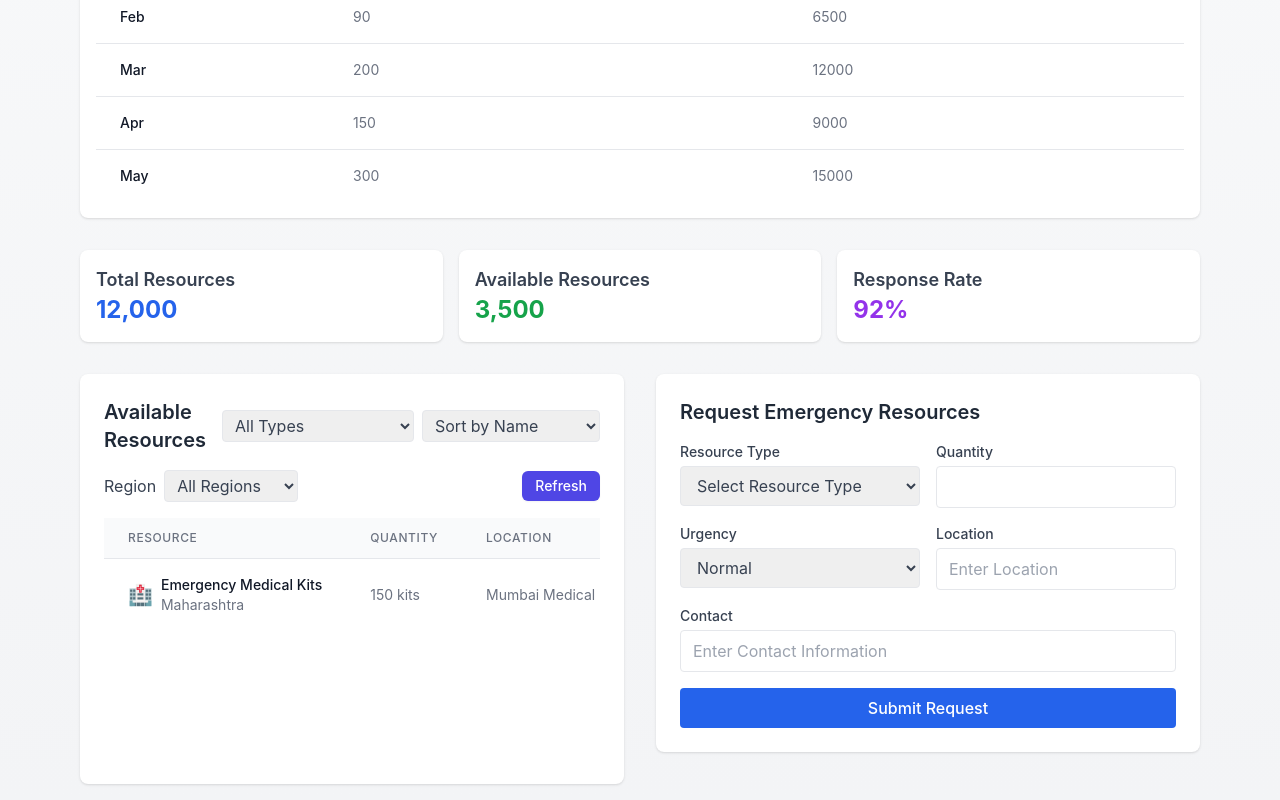
Scenario: EmergencyResourceTracker Component › handles resource request submission
(page scrolled)
# Fill out the form
Select "🏥 Medical Supplies" in the dropdown labelled "Resource Type" at (800, 486), box [680,466,920,506]
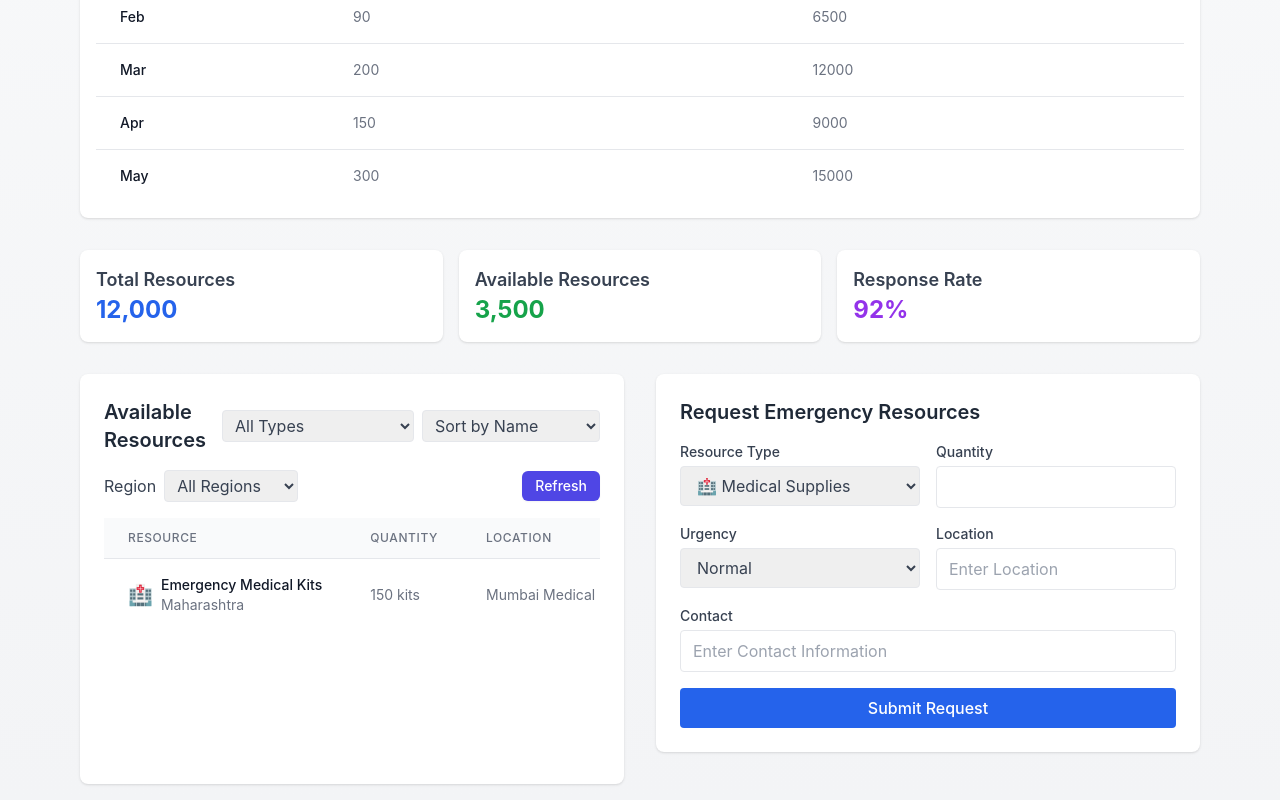
Type "100" into the number field labelled "Quantity".
click(1056, 487); type("100")  # box [936,466,1176,508]
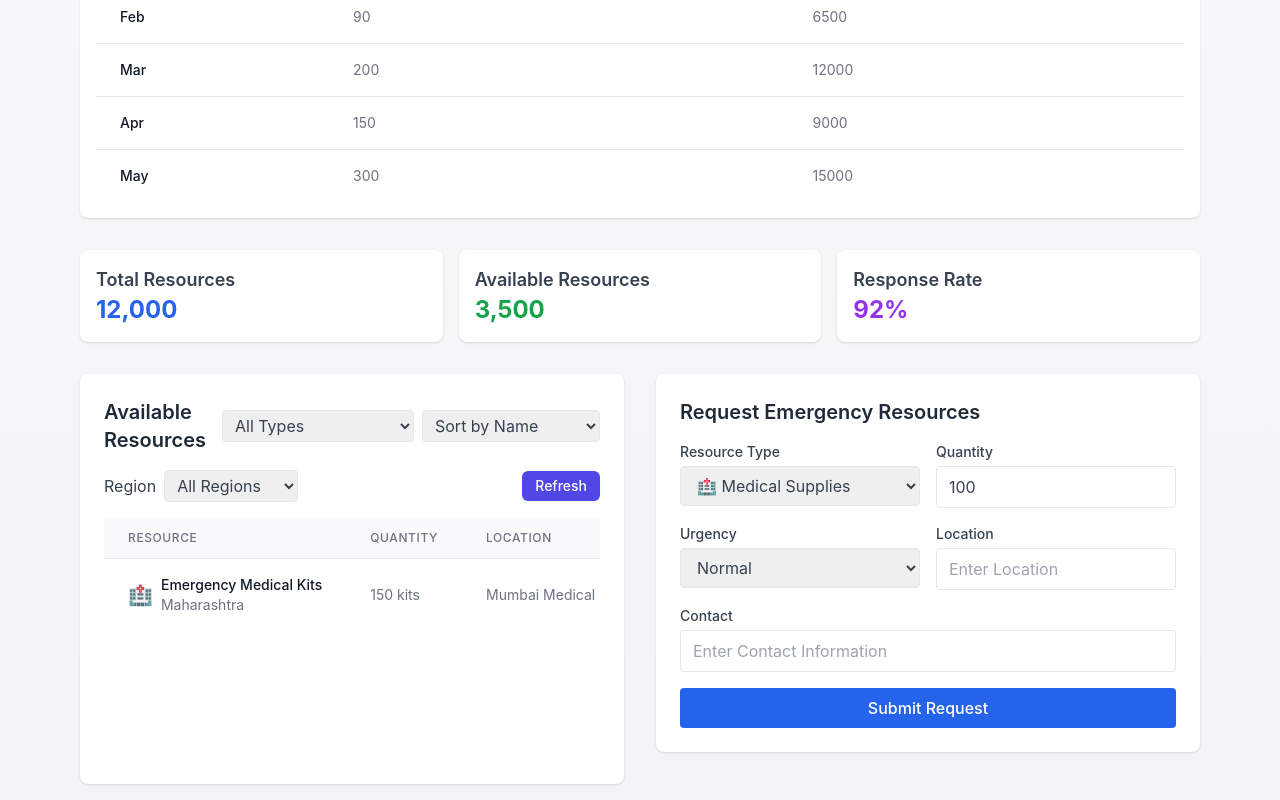
Type "Test Location" into the field labelled "Location".
click(1056, 569); type("Test Location")  # box [936,548,1176,590]
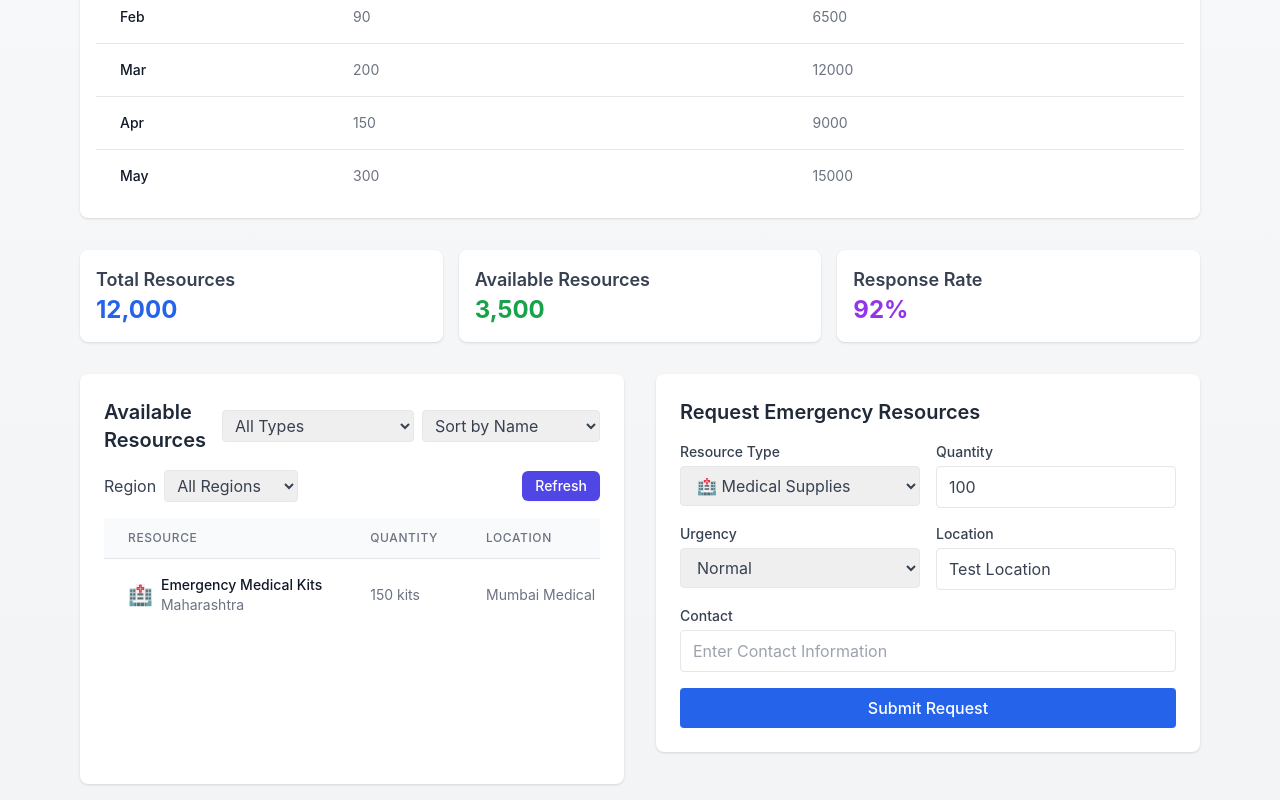
Type "+91-0000000000" into the field labelled "Contact".
click(928, 651); type("+91-0000000000")  # box [680,630,1176,672]
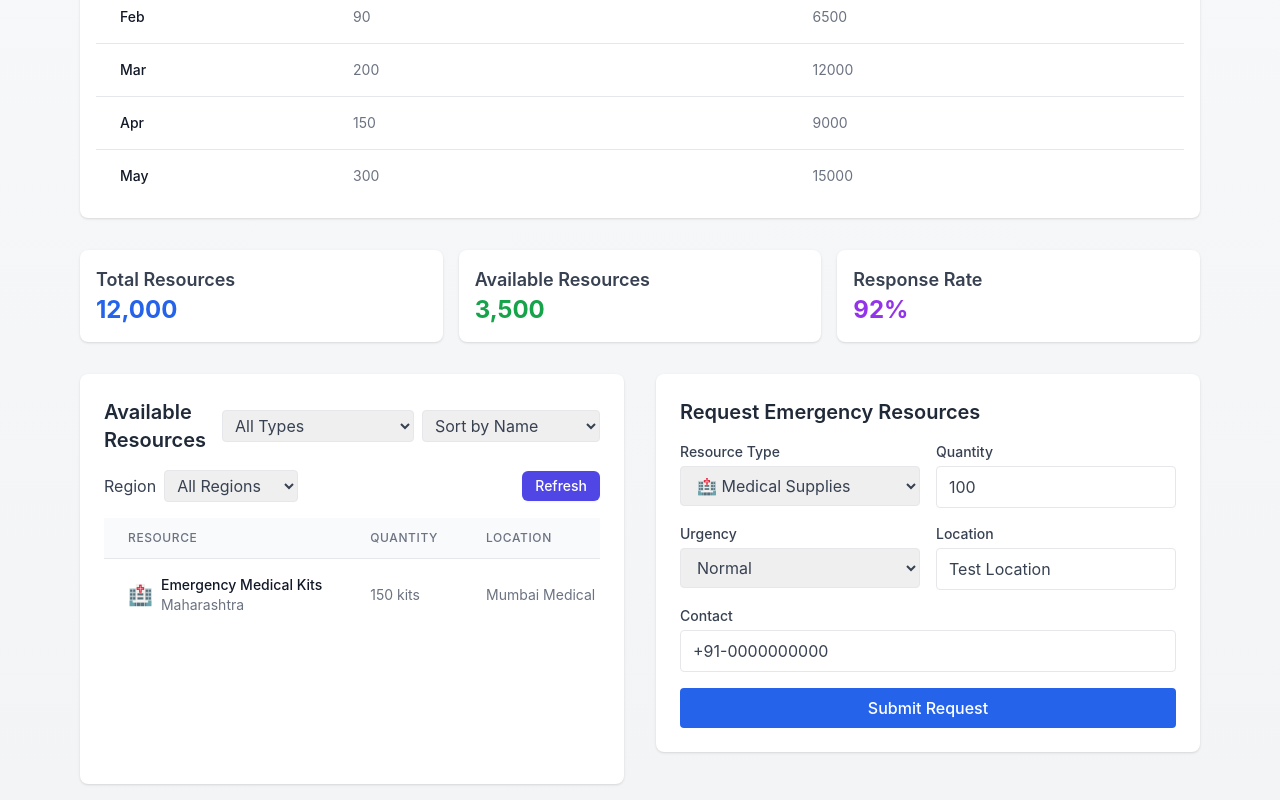
# Submit the form
Click the button "Submit Request".
click(928, 708)  # box [680,688,1176,728]
(page scrolled)
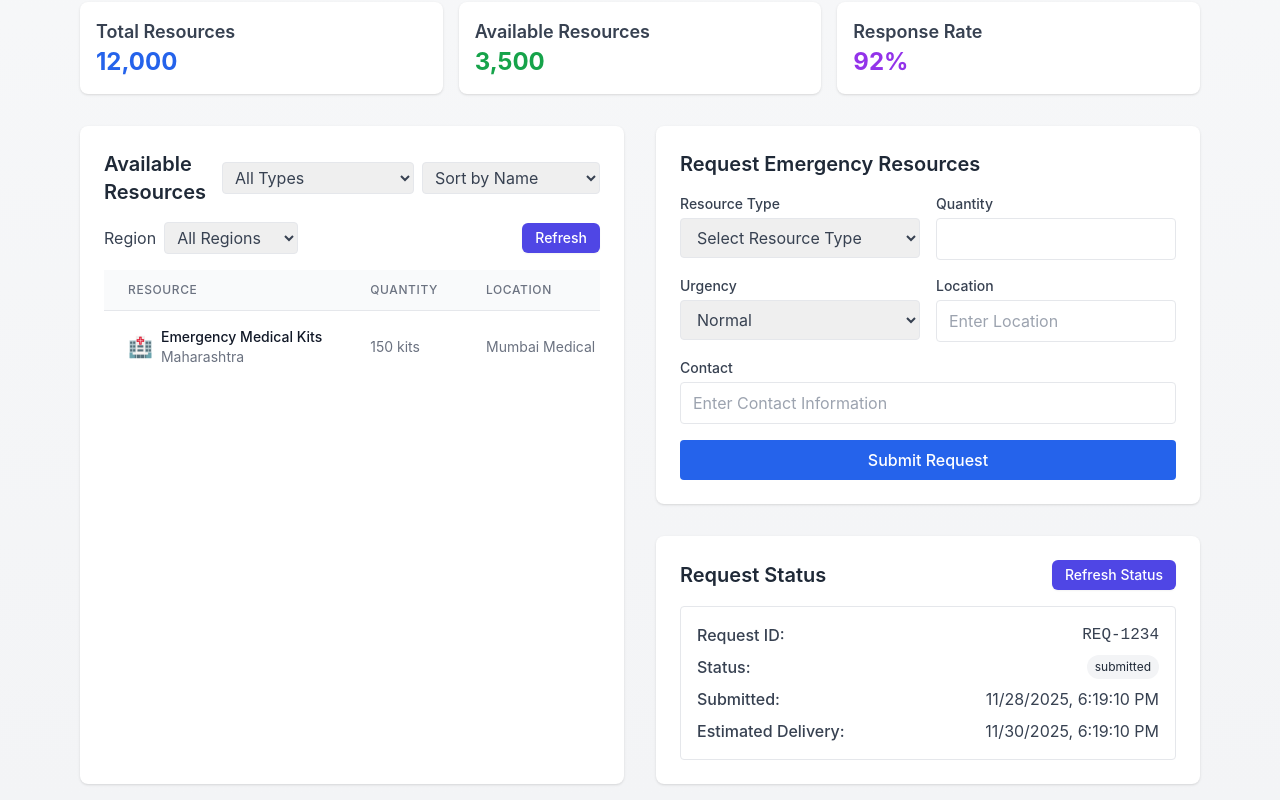
expect the text "REQ-1234" is shown: met, box [1082,623,1159,647]
